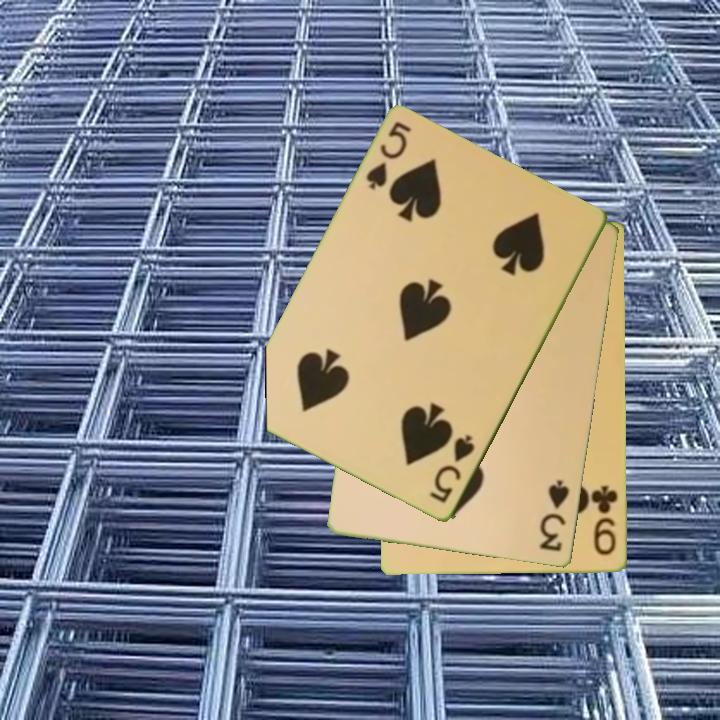3s: (537, 476, 573, 555)
5s: (362, 118, 415, 194), (426, 432, 478, 507)
9c: (589, 483, 621, 559)
